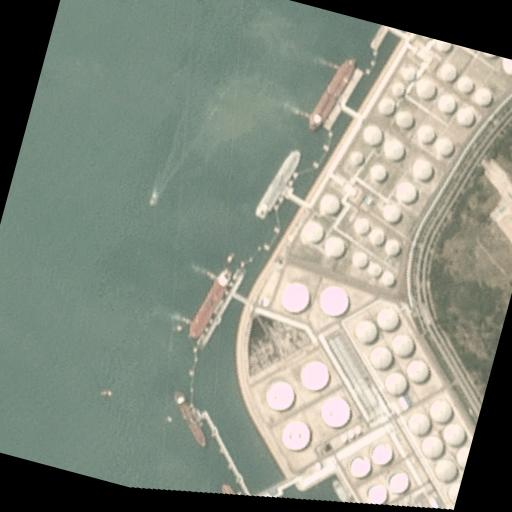ship: (306, 52, 358, 138), (252, 140, 300, 226), (188, 266, 234, 340), (163, 390, 218, 450), (145, 190, 159, 208)
